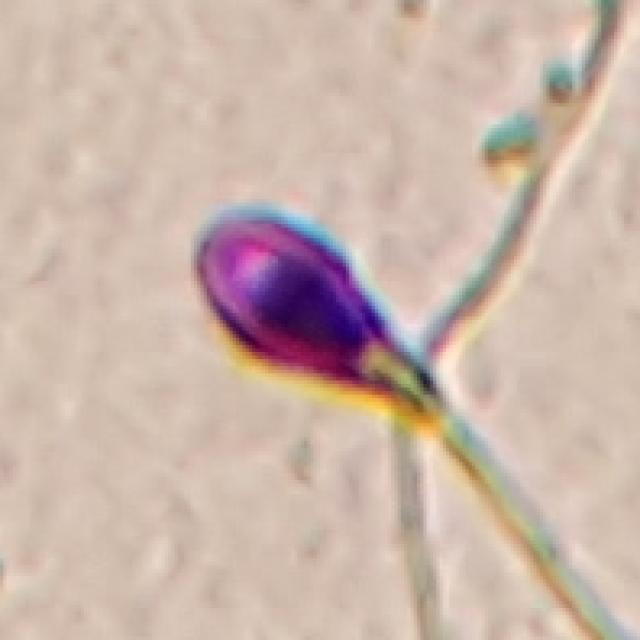normal sperm: (194, 206, 466, 449)
